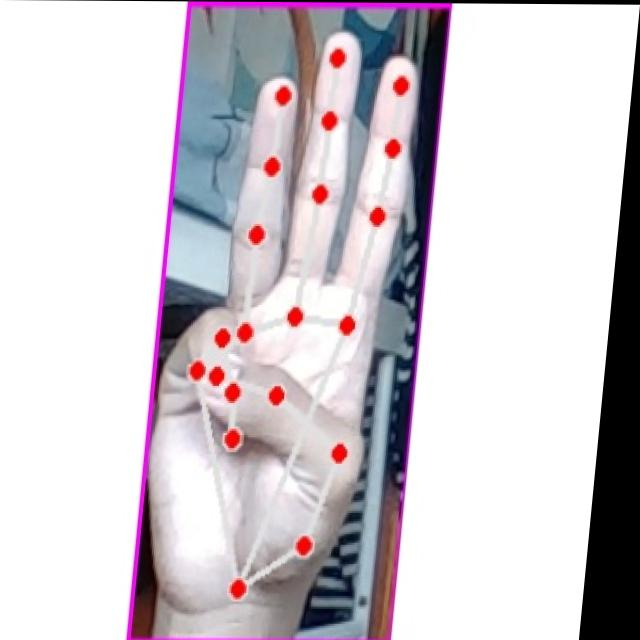W: (153, 21, 441, 608)
